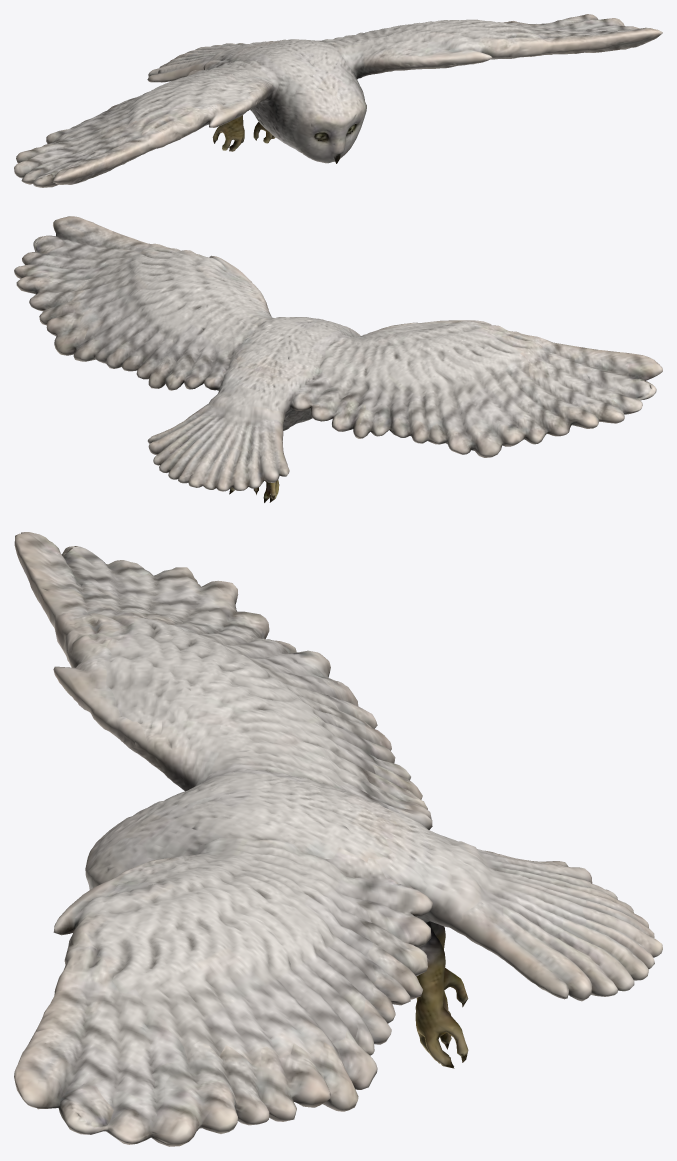
The model's file is MZ4250 - Giant Owl_Snowy.glb.
3 renders of one model, top to bottom at view 1: azimuth 30°, elevation 25°; view 2: azimuth 150°, elevation 25°; view 3: azimuth 270°, elevation 25°, orthographic. The views are drawn at different scales.
Visible parts, largest first — view 1: Owl.001; view 2: Owl.001; view 3: Owl.001.
Boxes of the visible parts, x1,y1,x2,y2 form: Owl.001: (14,14,662,187); Owl.001: (14,216,662,502); Owl.001: (14,532,662,1146).
Bounding box in the file's own units: 2.56 × 0.5603 × 1.21.
1 material, 1 textured.
